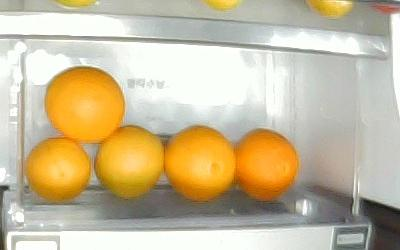orange: (44, 65, 125, 143), (165, 124, 236, 201), (94, 124, 164, 198), (235, 129, 298, 201), (26, 137, 92, 202)
